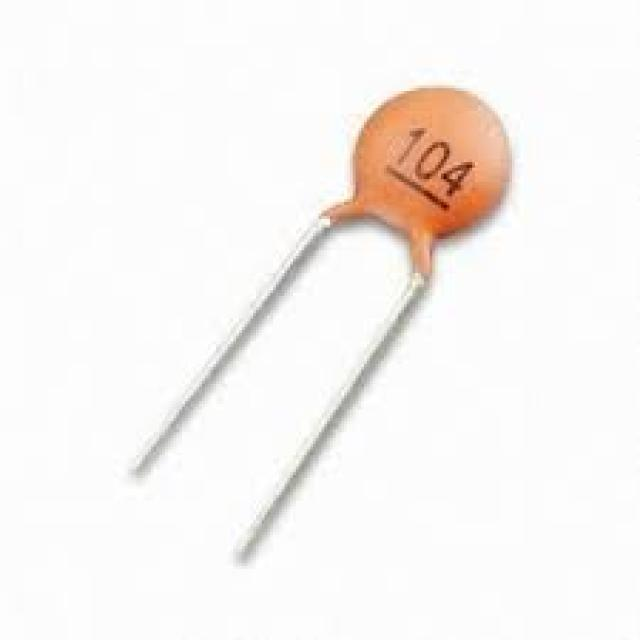Capacitor: (319, 85, 515, 287)
